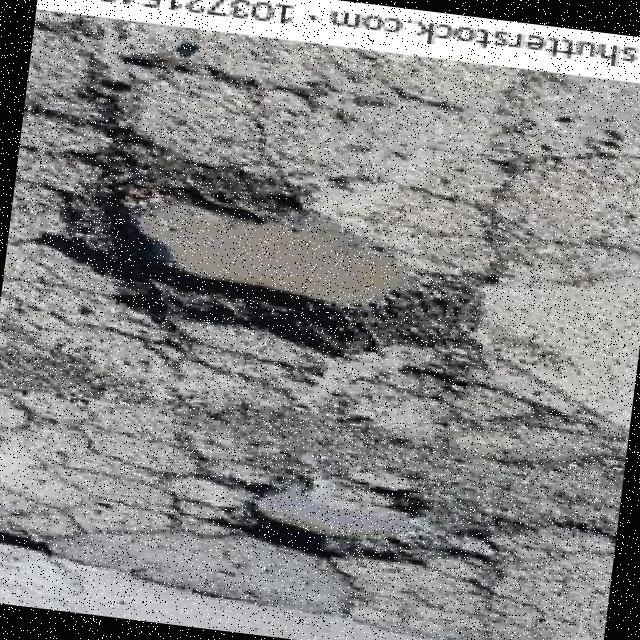Pothole: (64, 138, 454, 357), (252, 487, 435, 565)
